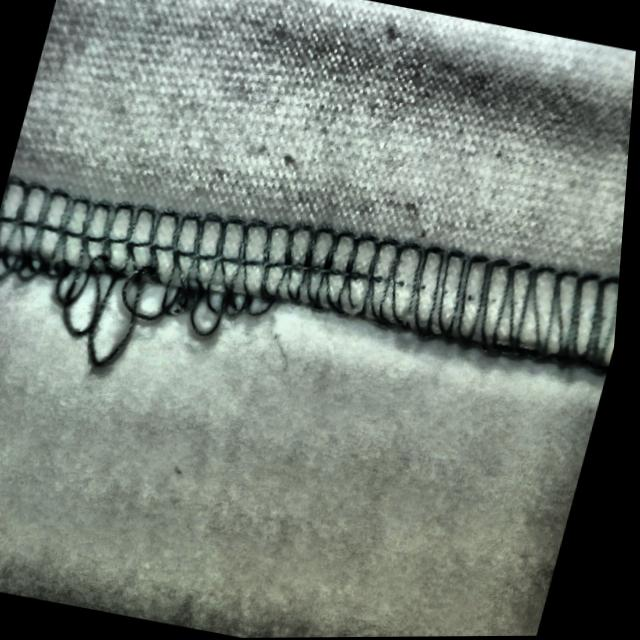Stitch: (0, 163, 304, 400)
